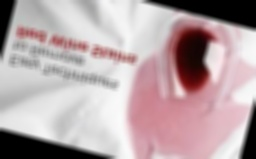wine: (115, 60, 253, 159), (226, 53, 256, 100)
